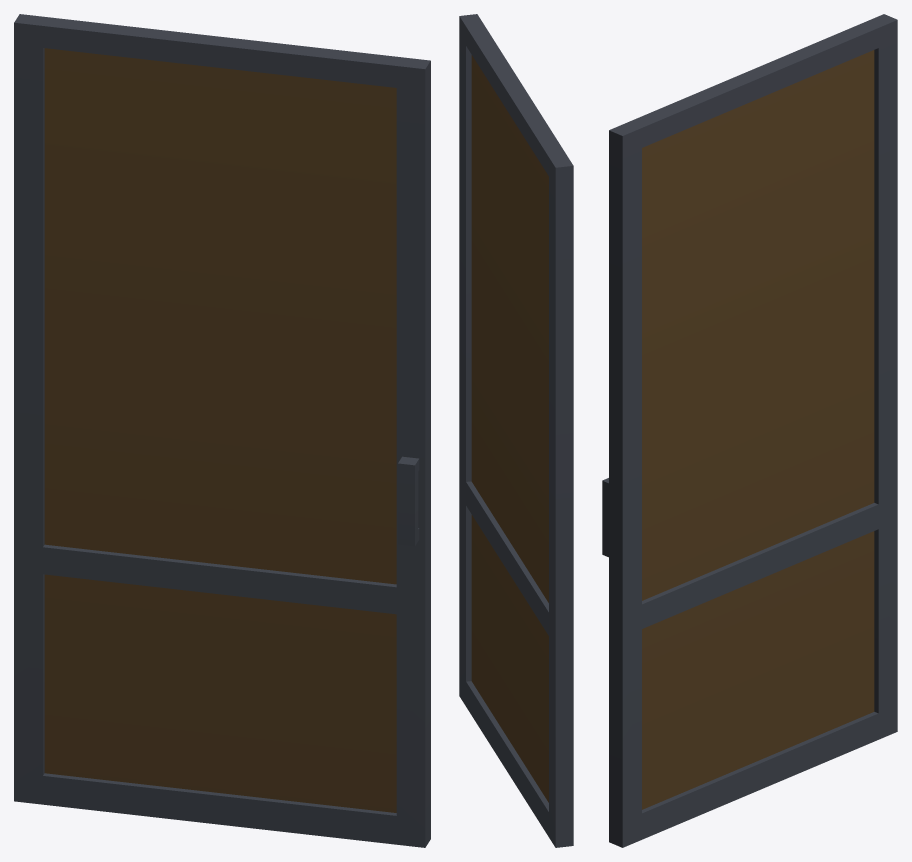
The model's file is SmallHouse_11_Door01.fbx.
3 renders of one model, left to right at view 1: azimuth 30°, elevation 25°; view 2: azimuth 150°, elevation 25°; view 3: azimuth 270°, elevation 25°, orthographic. The views are drawn at different scales.
Visible parts, largest first — view 1: SmallHouse_11_Door01; view 2: SmallHouse_11_Door01; view 3: SmallHouse_11_Door01.
Part boxes in pixels (x1=…): SmallHouse_11_Door01: x1=14, y1=14, x2=430, y2=847; SmallHouse_11_Door01: x1=459, y1=14, x2=573, y2=847; SmallHouse_11_Door01: x1=602, y1=14, x2=897, y2=847.
Size of the model in its own units: 0.7425 by 2.02 by 0.7598.
